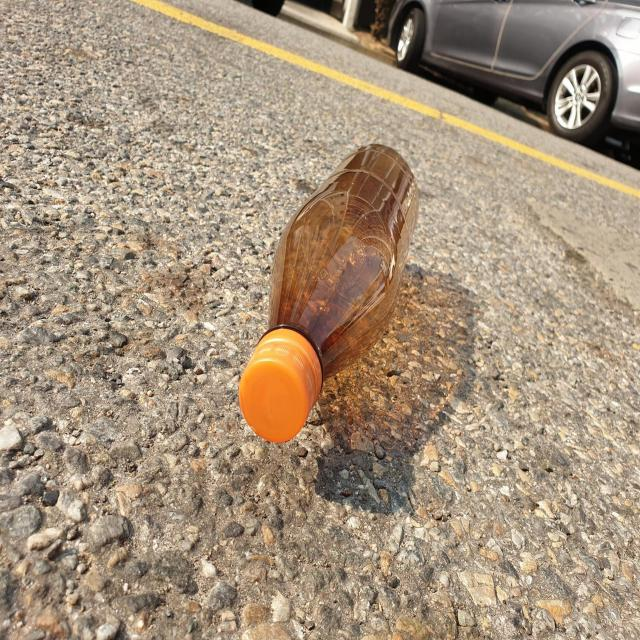plastic: (239, 143, 419, 443)
